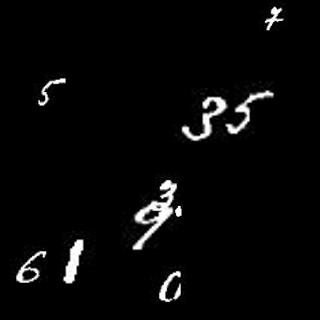dot: (174, 205, 189, 218)
five: (226, 82, 273, 138), (36, 74, 67, 108)
nine: (131, 201, 172, 251)
one: (64, 239, 89, 284)
seven: (262, 4, 287, 32)
six: (18, 246, 46, 284)
three: (181, 92, 227, 146), (153, 180, 181, 207)
zero: (154, 267, 187, 303)
